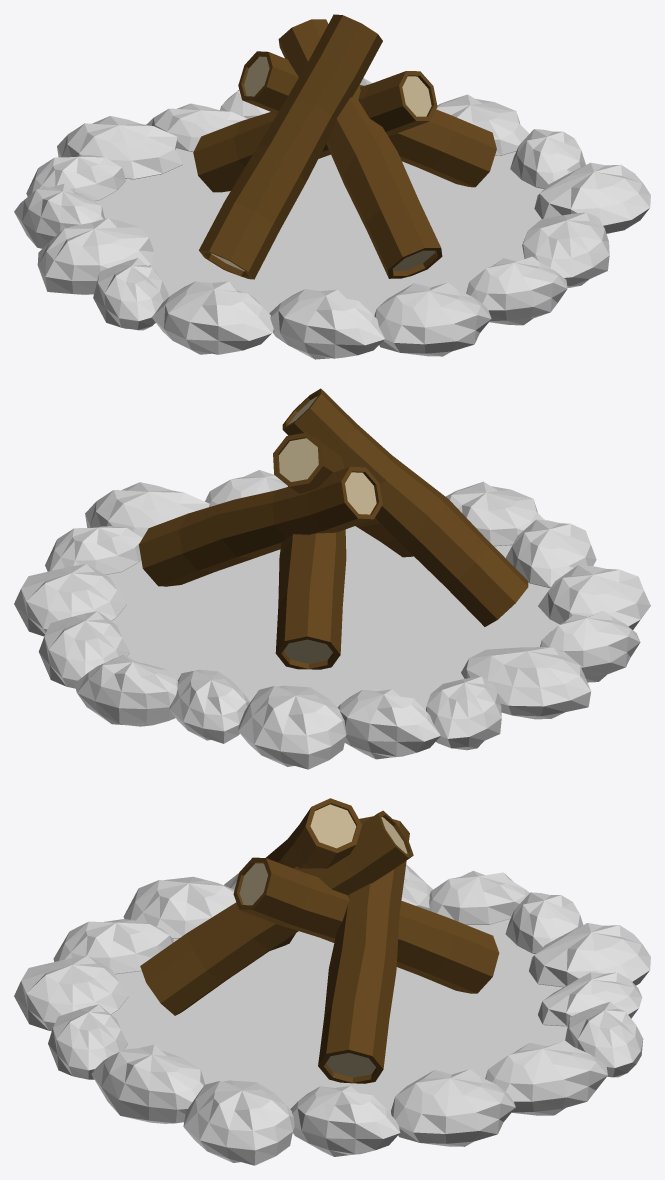
The model's file is lowpoly_campfire.glb.
3 renders of one model, top to bottom at view 1: azimuth 30°, elevation 25°; view 2: azimuth 150°, elevation 25°; view 3: azimuth 270°, elevation 25°, orthographic. The views are drawn at different scales.
Visible parts, largest first — view 1: Cylinder001, Pino1_Tronco004, Pino1_Tronco001, Pino1_Tronco002, Pino1_Tronco003, Sphere018, Sphere003, Sphere019, Sphere011, Sphere006, Sphere016, Sphere004 (+8 smaller); view 2: Cylinder001, Pino1_Tronco004, Pino1_Tronco002, Pino1_Tronco003, Sphere016, Sphere011, Sphere015, Sphere017, Sphere013, Sphere018, Sphere014, Sphere010 (+8 smaller); view 3: Cylinder001, Pino1_Tronco002, Pino1_Tronco003, Pino1_Tronco001, Sphere013, Sphere006, Sphere005, Sphere014, Sphere007, Sphere016, Sphere003, Sphere018 (+8 smaller).
Part boxes in pixels (left/top/right/bottom): Cylinder001: left=95, top=148, right=543, bottom=331; Pino1_Tronco004: left=199, top=14, right=382, bottom=279; Pino1_Tronco001: left=278, top=19, right=442, bottom=278; Pino1_Tronco002: left=238, top=51, right=496, bottom=187; Pino1_Tronco003: left=193, top=71, right=437, bottom=192; Sphere018: left=152, top=281, right=273, bottom=354; Sphere003: left=374, top=282, right=491, bottom=356; Sphere019: left=269, top=289, right=384, bottom=359; Sphere011: left=37, top=217, right=153, bottom=294; Sphere006: left=534, top=162, right=650, bottom=233; Sphere016: left=57, top=116, right=182, bottom=179; Sphere004: left=466, top=256, right=567, bottom=325; Cylinder001: left=106, top=526, right=559, bottom=710; Pino1_Tronco004: left=282, top=388, right=528, bottom=626; Pino1_Tronco002: left=139, top=466, right=382, bottom=586; Pino1_Tronco003: left=275, top=486, right=346, bottom=669; Sphere016: left=238, top=685, right=346, bottom=769; Sphere011: left=461, top=647, right=591, bottom=719; Sphere015: left=74, top=655, right=177, bottom=726; Sphere017: left=337, top=689, right=440, bottom=759; Sphere013: left=14, top=564, right=126, bottom=636; Sphere018: left=538, top=565, right=650, bottom=629; Sphere014: left=38, top=611, right=129, bottom=688; Sphere010: left=426, top=676, right=501, bottom=750; Cylinder001: left=111, top=919, right=567, bottom=1114; Pino1_Tronco002: left=318, top=816, right=409, bottom=1083; Pino1_Tronco003: left=233, top=857, right=499, bottom=993; Pino1_Tronco001: left=140, top=810, right=413, bottom=1015; Sphere013: left=391, top=1069, right=515, bottom=1146; Sphere006: left=183, top=1080, right=294, bottom=1165; Sphere005: left=91, top=1044, right=204, bottom=1123; Sphere014: left=485, top=1040, right=607, bottom=1115; Sphere007: left=290, top=1085, right=400, bottom=1156; Sphere016: left=529, top=923, right=650, bottom=987; Sphere003: left=14, top=955, right=128, bottom=1031; Sphere018: left=123, top=876, right=235, bottom=938.
Bounding box in the file's own units: 191 × 79.56 × 185.
